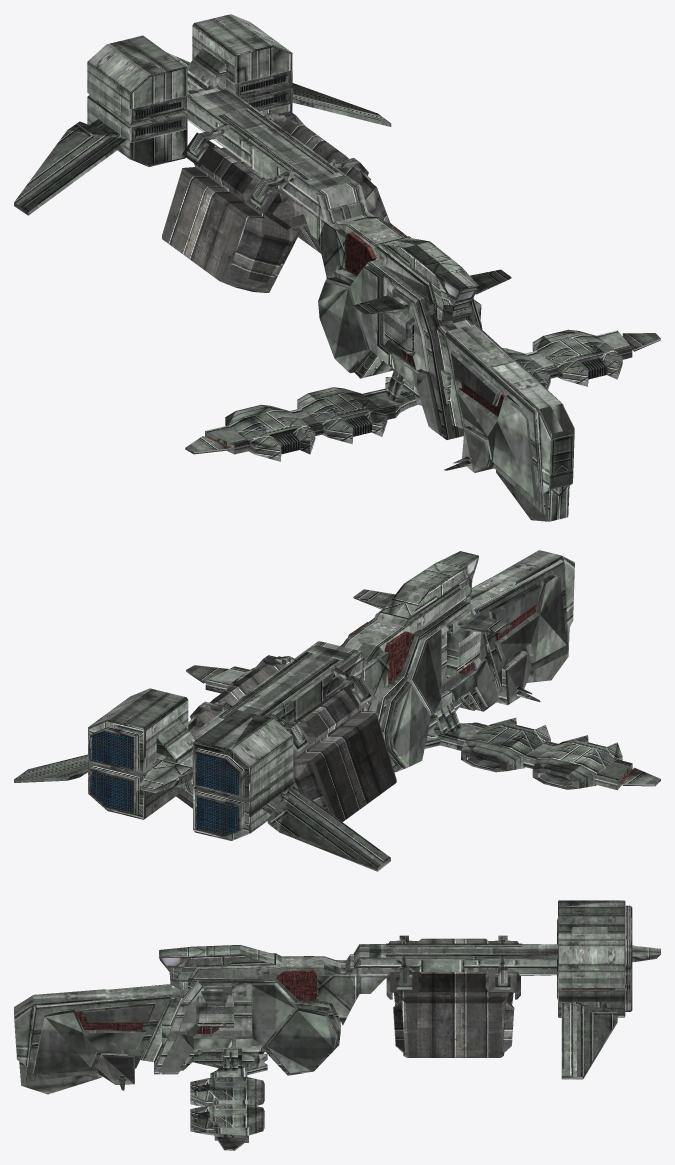
Rendered from RB-360 Westerhand.fbx.
3 renders of one model, top to bottom at view 1: azimuth 30°, elevation 25°; view 2: azimuth 150°, elevation 25°; view 3: azimuth 270°, elevation 25°, orthographic. The views are drawn at different scales.
Visible parts, largest first — view 1: Hull1, Hull3, Hull2, Intakes, Intakes.2; view 2: Hull1, Hull3, Grills, Hull2; view 3: Hull1, Hull3, Hull2.
Part boxes in pixels (x1,y1,x2,y2): Hull1: (14,14,660,521); Hull3: (162,112,390,292); Hull2: (97,86,633,493); Intakes: (274,309,607,454); Intakes.2: (136,76,286,136); Hull1: (14,550,660,871); Hull3: (176,664,396,821); Grills: (92,732,567,834); Hull2: (149,585,632,795); Hull1: (14,900,660,1150); Hull3: (386,938,520,1057); Hull2: (76,956,614,1139).
Size of the model in its own units: 496 by 218 by 764.
Materials: 7 (7 with a texture image).
